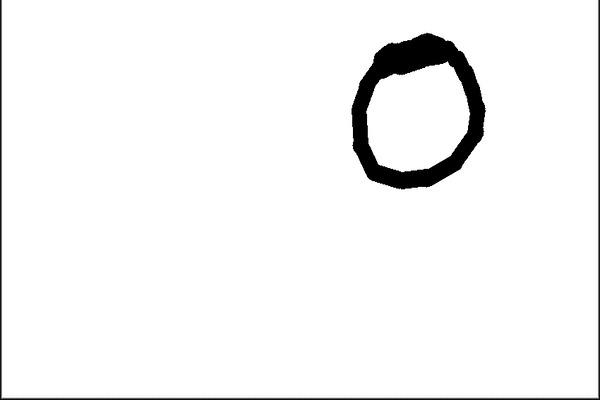O: (323, 23, 496, 196)
